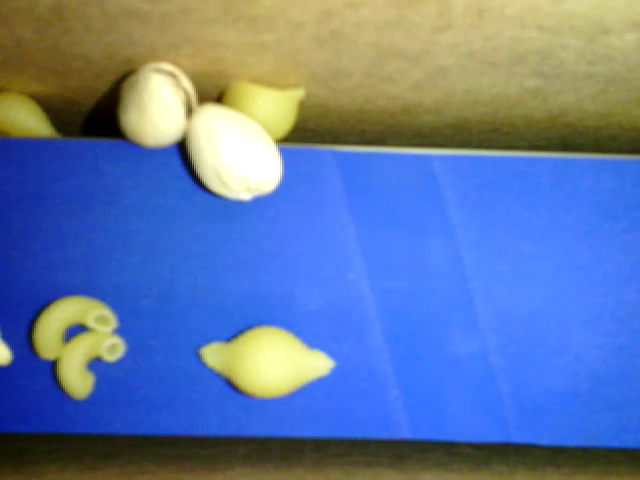elbow: (34, 293, 117, 364), (57, 328, 126, 400)
shell: (193, 322, 338, 401), (220, 74, 301, 141), (1, 88, 63, 137)
